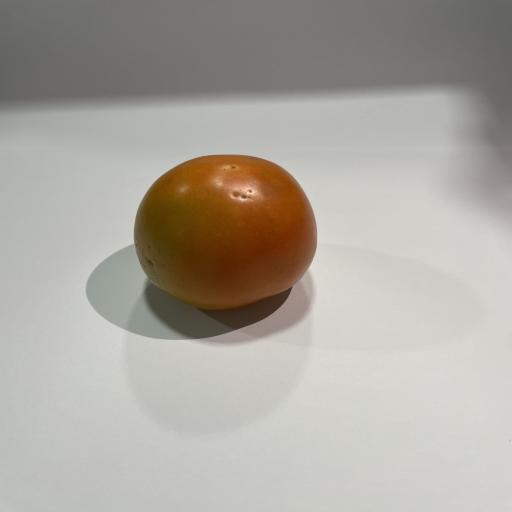ripe: (134, 155, 317, 309)
